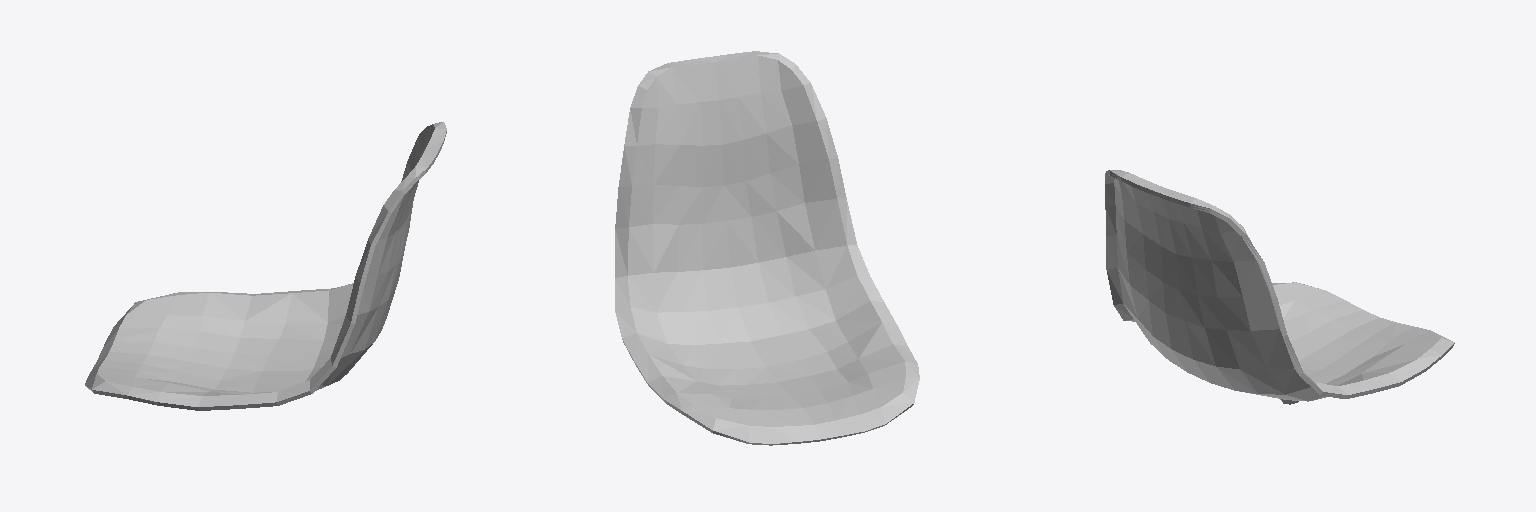
File: chair_body.obj
The picture shows the model from 3 angles: view 1: azimuth 30°, elevation 25°; view 2: azimuth 150°, elevation 25°; view 3: azimuth 270°, elevation 25°; orthographic projection.
Visible parts, largest first — view 1: body; view 2: body; view 3: body.
Part boxes in pixels (x1,y1,x2,y2): body: (85, 122, 446, 410); body: (615, 51, 919, 445); body: (1105, 170, 1454, 404).
Size of the model in its own units: 5.45 by 4.18 by 5.33.